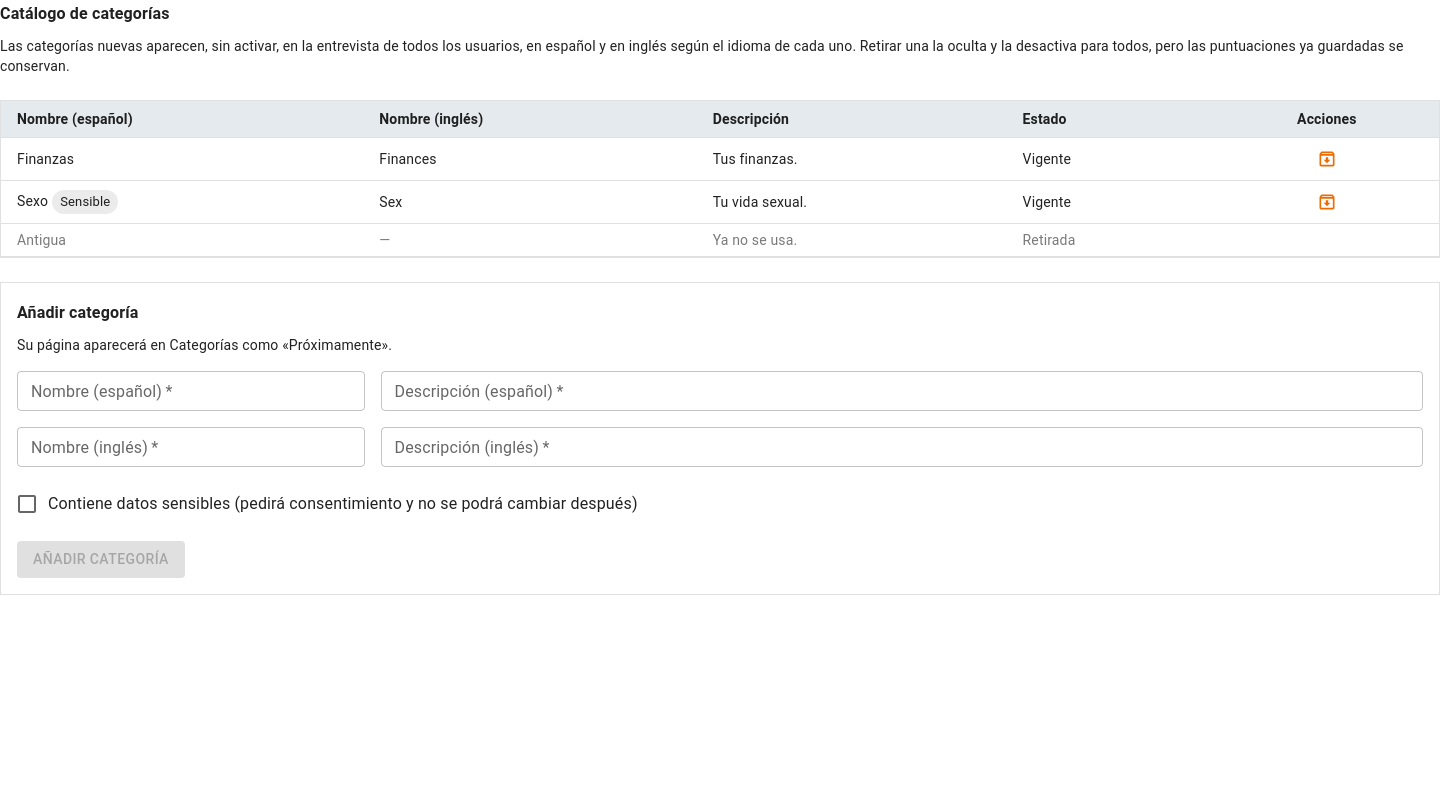
AdminCategories (ADM-02) › cancelar la confirmación no retira nada
The width and height of the screenshot is (1440, 810).
Check: the text "Finanzas" is shown, box [1,138,363,180]
Click the button named "retirar".
click(1327, 159)  # box [1312,144,1342,174]
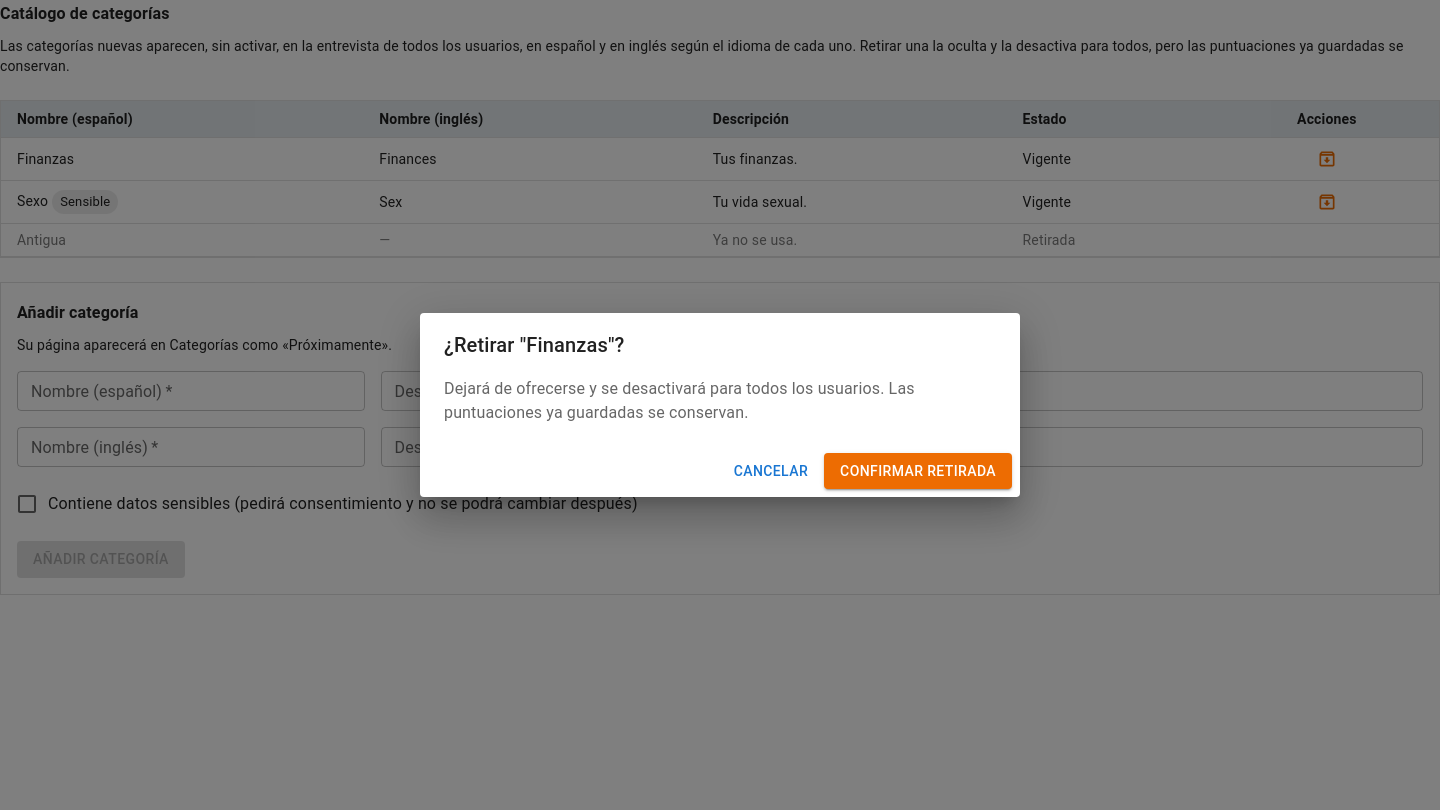
Click the button "Cancelar".
click(771, 471)  # box [726,453,816,489]
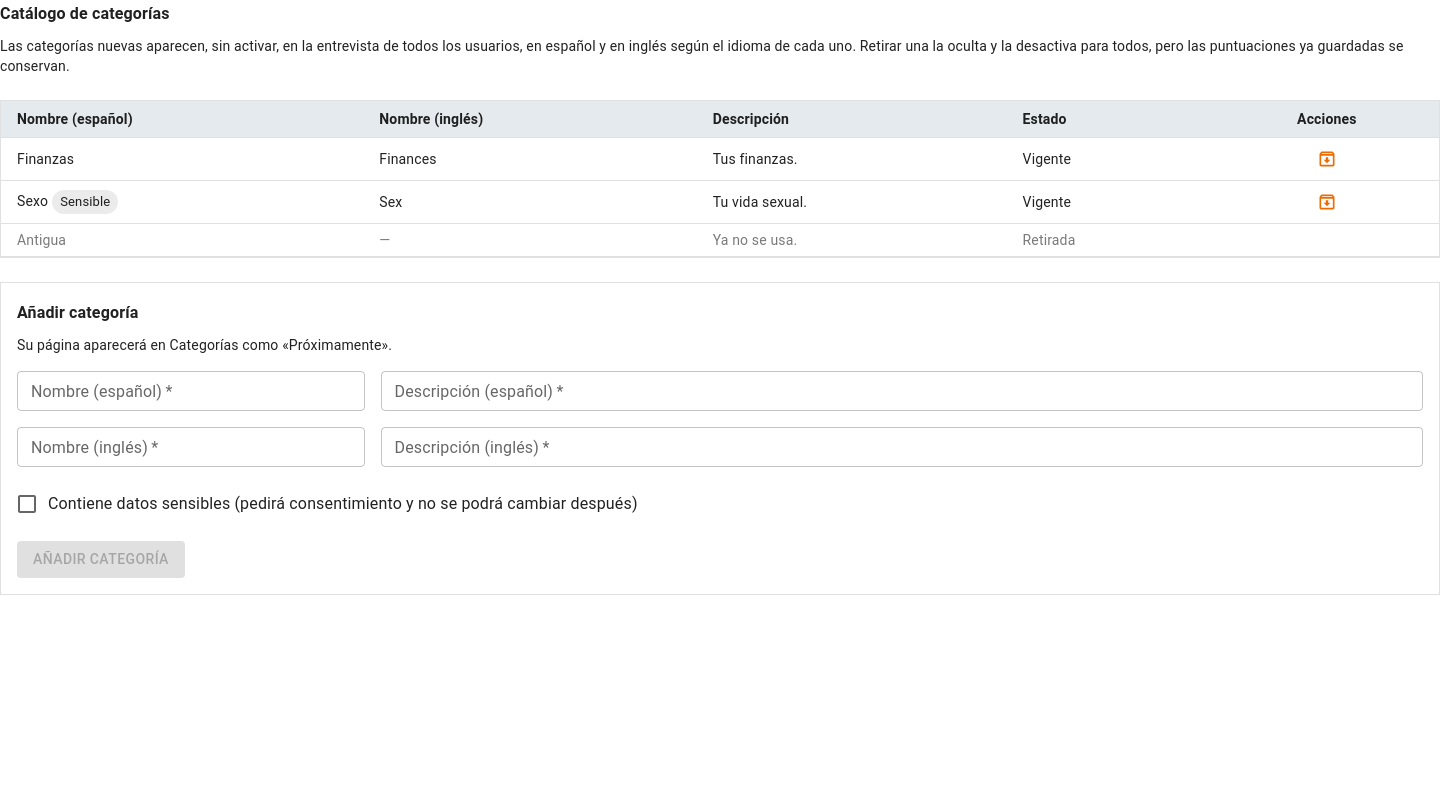
Check: the dialog is gone
